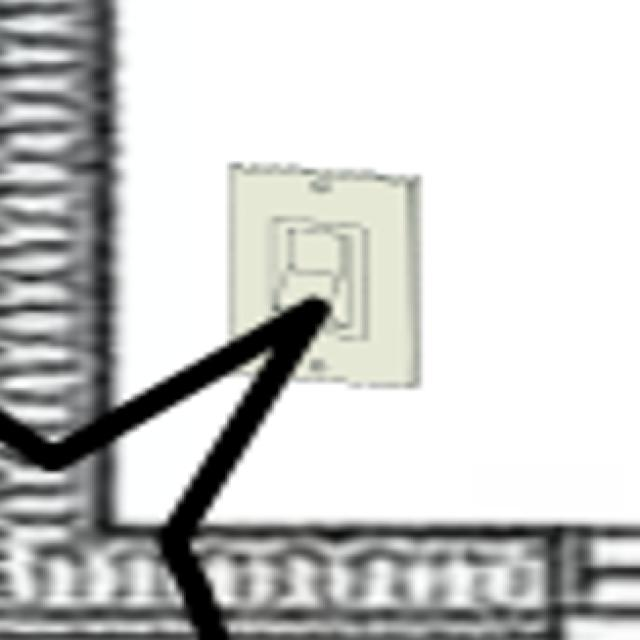switch: (201, 156, 445, 400)
